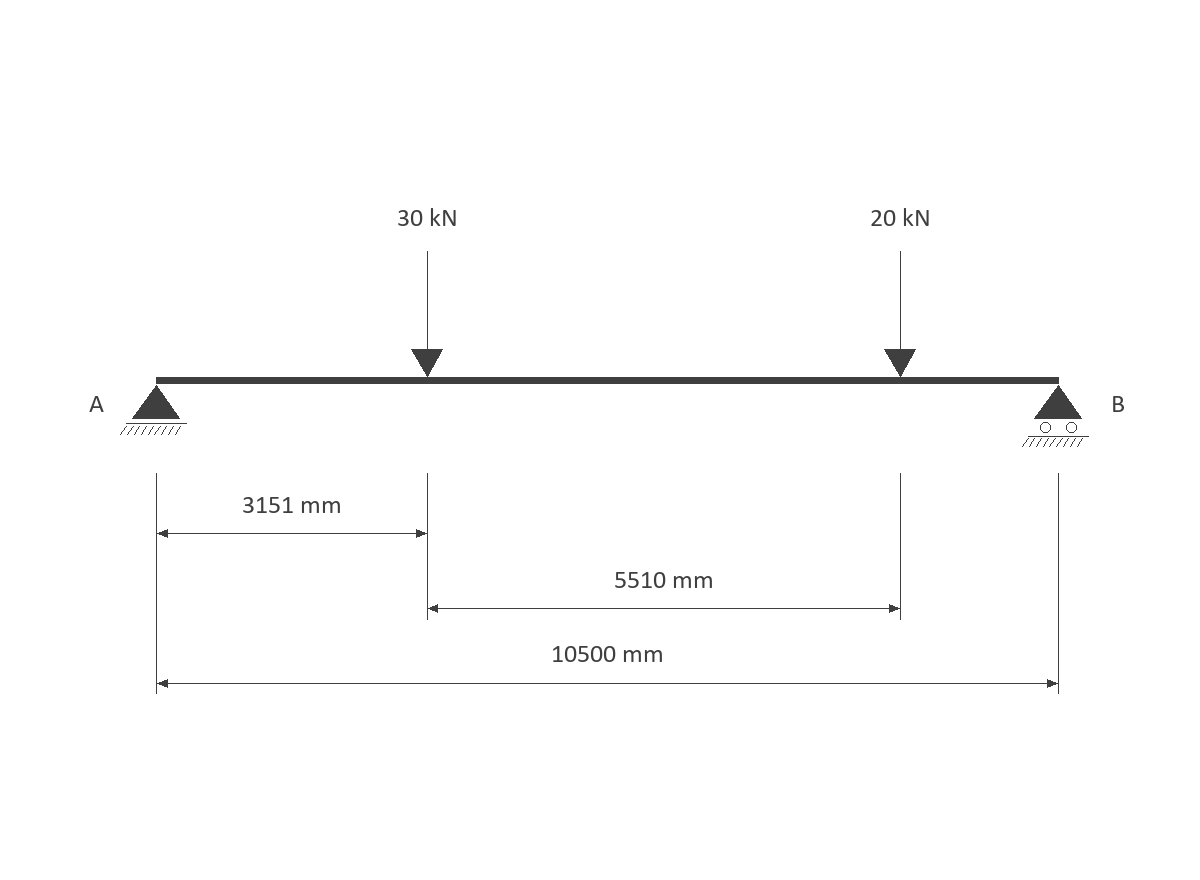pin_support: (120, 385, 187, 435)
point_load: (411, 251, 443, 377), (884, 251, 916, 377)
roller_support: (1022, 385, 1089, 447)
